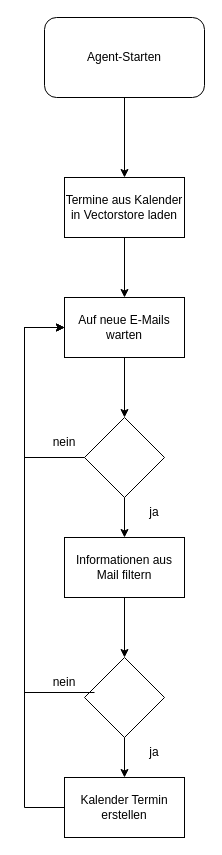
Image size: 222x855. Some labels were removed from this diagram. Each missing label, with the centre of its shape:
"neue E-Mail" belongs at (x=124, y=457).
"Überprüfen ob Termin frei ist" belongs at (x=124, y=697).
